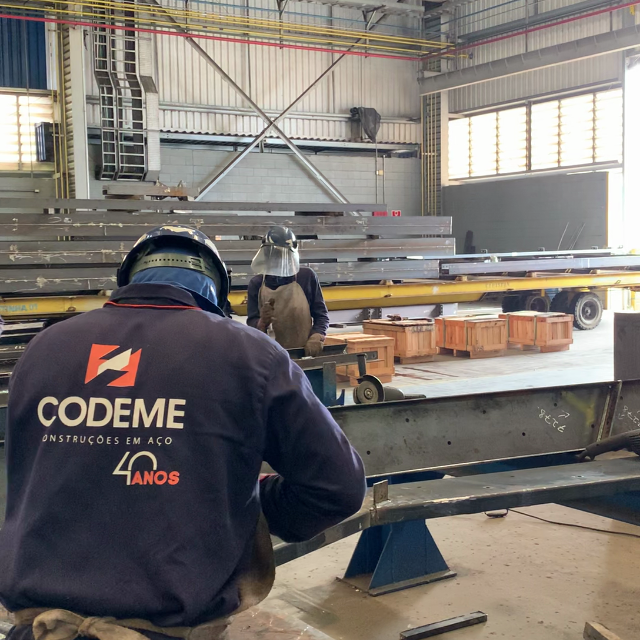face-shield: (250, 246, 302, 275)
glove: (303, 332, 324, 356)
helmet: (115, 221, 232, 304), (262, 223, 299, 248)
person: (1, 225, 366, 630), (244, 226, 330, 356)
